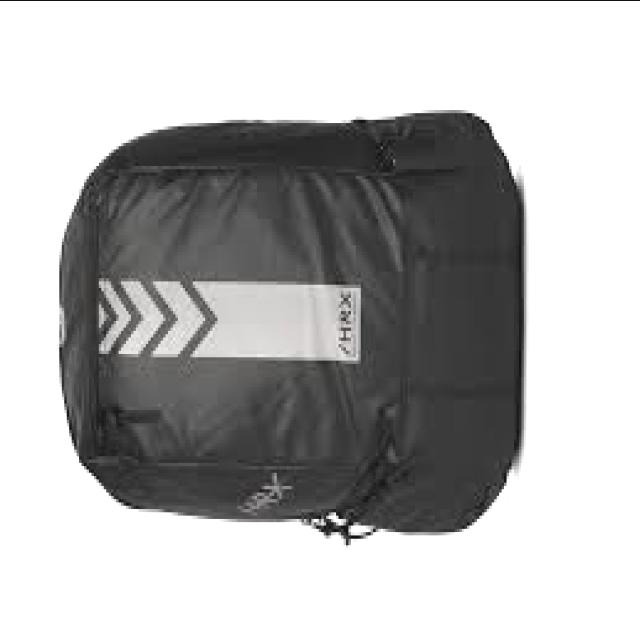backpack: (58, 110, 522, 546)
